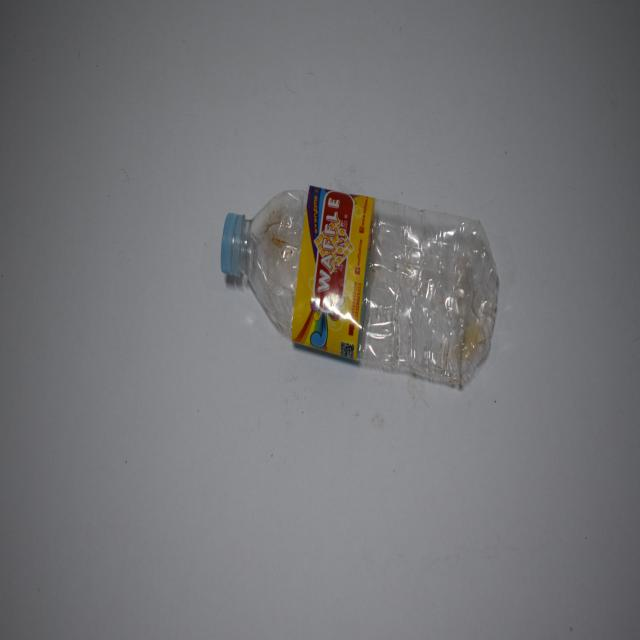bottle: (218, 180, 500, 391)
